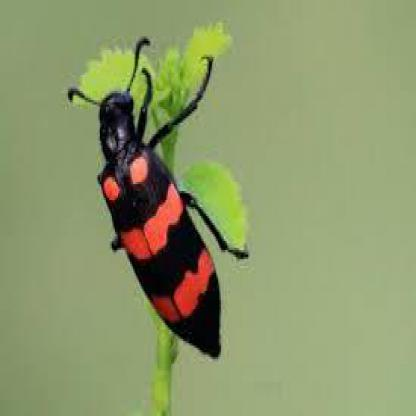blister beetle: (68, 40, 249, 358)
